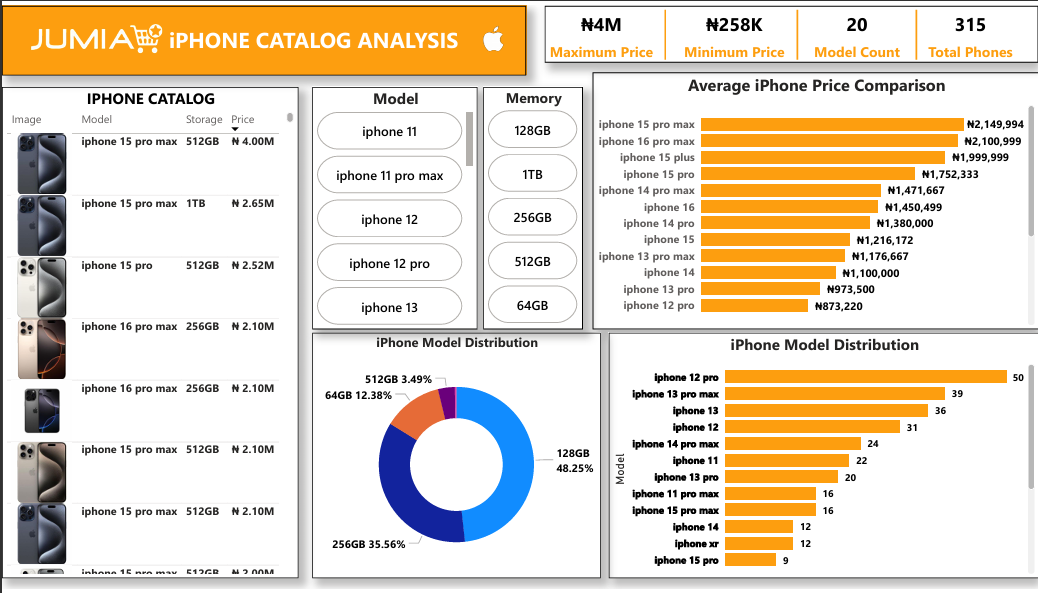

The page's visual inventory and layout, read from the dashboard file:
{"tool":"powerbi","page":{"name":"Page 1","canvas":[1280,720],"ordinal":0},"visuals":[{"type":"clusteredBarChart","title":"Average iPhone Price Comparison","fields":{"Category":["cleaned_jumia.Model","cleaned_jumia.Model Hierarchy.Memory"],"Y":["Avg(cleaned_jumia.Price)"]},"box":[728.6,82.9,551.4,317.1],"z":0},{"type":"clusteredBarChart","title":"iPhone Model Distribution","fields":{"Category":["cleaned_jumia.Model","cleaned_jumia.Model Hierarchy.Memory"],"Y":["CountNonNull(cleaned_jumia.Model)"]},"box":[748.6,404.3,531.4,302.9],"z":1000},{"type":"donutChart","title":" iPhone Model Distribution","fields":{"Category":["cleaned_jumia.Memory"],"Y":["CountNonNull(cleaned_jumia.Memory)"]},"box":[382.9,404.3,355.7,302.9],"z":2000},{"type":"tableEx","title":"IPHONE CATALOG","fields":{"Values":["cleaned_jumia.Image","cleaned_jumia.Model","cleaned_jumia.Memory","cleaned_jumia.Price"]},"box":[0,101.4,365.7,605.7],"z":3000},{"type":"textbox","box":[0,1.4,647.1,85.7],"z":4000},{"type":"image","box":[15.7,0,201.4,82.9],"z":5000},{"type":"image","box":[564.3,10,82.9,67.1],"z":6000},{"type":"advancedSlicerVisual","fields":{"Values":["cleaned_jumia.Model"]},"box":[382.9,101.4,204.3,298.6],"z":7000},{"type":"advancedSlicerVisual","fields":{"Values":["cleaned_jumia.Memory"]},"box":[594.3,101.4,122.9,298.6],"z":8000},{"type":"textbox","box":[670,1.4,608.6,70],"z":10000},{"type":"card","fields":{"Values":["CountNonNull(cleaned_jumia.Description)"]},"box":[1129.2,1.4,132.9,71.4],"z":11000},{"type":"card","fields":{"Values":["Count(cleaned_jumia.Model)"]},"box":[989.2,1.4,132.9,71.4],"z":12000},{"type":"card","fields":{"Values":["Min(cleaned_jumia.Price)"]},"box":[826.3,1.4,155.7,71.4],"z":13000},{"type":"card","fields":{"Values":["Max(cleaned_jumia.Price)"]},"box":[662,1.4,155.7,71.4],"z":14000},{"type":"shape","box":[772.9,5.7,91.4,61.4],"z":14001},{"type":"shape","box":[935.7,5.7,91.4,61.4],"z":14002},{"type":"shape","box":[1082.9,5.7,91.4,61.4],"z":14003}]}

Visuals, with their boxes in screenshot pixels (x1, y1, x2, y2), scaled from the page's 1280x720 canvas onto the 1038x593 screenshot:
"Average iPhone Price Comparison" clusteredBarChart: [left=591, top=68, right=1037, bottom=329]
"iPhone Model Distribution" clusteredBarChart: [left=607, top=333, right=1037, bottom=582]
" iPhone Model Distribution" donutChart: [left=311, top=333, right=599, bottom=582]
"IPHONE CATALOG" tableEx: [left=0, top=84, right=297, bottom=582]
textbox: [left=0, top=1, right=525, bottom=72]
image: [left=13, top=0, right=176, bottom=68]
image: [left=458, top=8, right=525, bottom=64]
advancedSlicerVisual - cleaned_jumia.Model: [left=311, top=84, right=476, bottom=329]
advancedSlicerVisual - cleaned_jumia.Memory: [left=482, top=84, right=582, bottom=329]
textbox: [left=543, top=1, right=1037, bottom=59]
card - CountNonNull(cleaned_jumia.Description): [left=916, top=1, right=1023, bottom=60]
card - Count(cleaned_jumia.Model): [left=802, top=1, right=910, bottom=60]
card - Min(cleaned_jumia.Price): [left=670, top=1, right=796, bottom=60]
card - Max(cleaned_jumia.Price): [left=537, top=1, right=663, bottom=60]
shape: [left=627, top=5, right=701, bottom=55]
shape: [left=759, top=5, right=833, bottom=55]
shape: [left=878, top=5, right=952, bottom=55]
